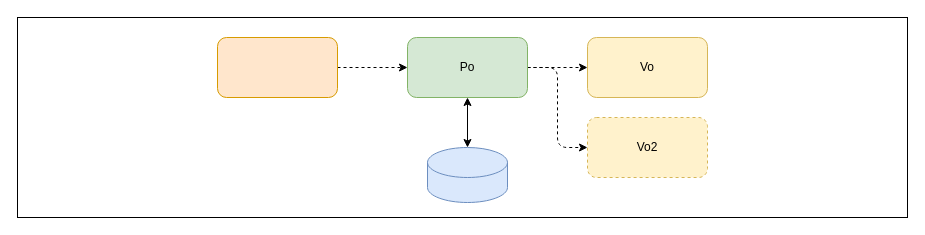
Image size: 925x235. Some labels were removed from this diagram. Each missing label, with the box of its shape:
DB: (426, 146, 508, 202)
Dto: (216, 36, 338, 98)
